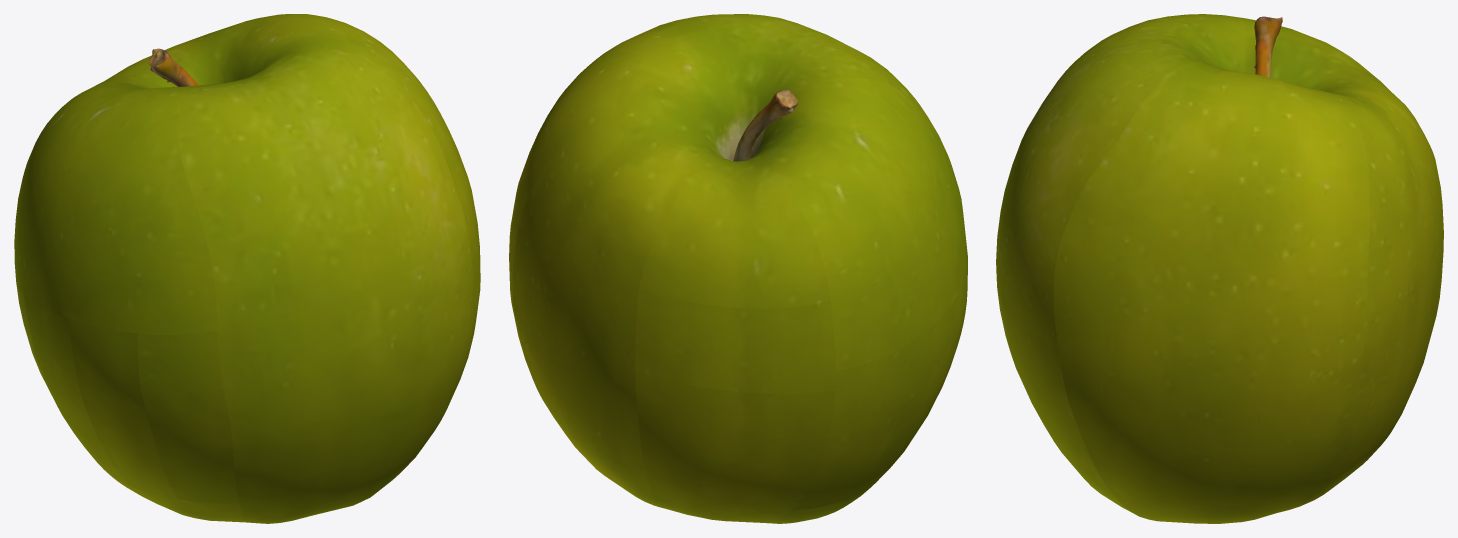
File: food_produce_apple_grannysmith_a.glb
The picture shows the model from 3 angles, left to right: view 1: azimuth 30°, elevation 25°; view 2: azimuth 150°, elevation 25°; view 3: azimuth 270°, elevation 25°; orthographic projection.
Parts seen in each view (by area): view 1: part0; view 2: part0; view 3: part0.
Part boxes in pixels (x1,y1,x2,y2): part0: (14, 14, 480, 523); part0: (509, 14, 967, 523); part0: (996, 14, 1443, 523).
Bounding box in the file's own units: 0.092 × 0.0965 × 0.0888.
Materials: 1 (1 with a texture image).
